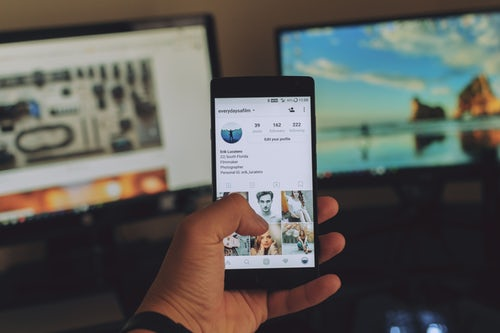phone: (205, 74, 328, 289)
